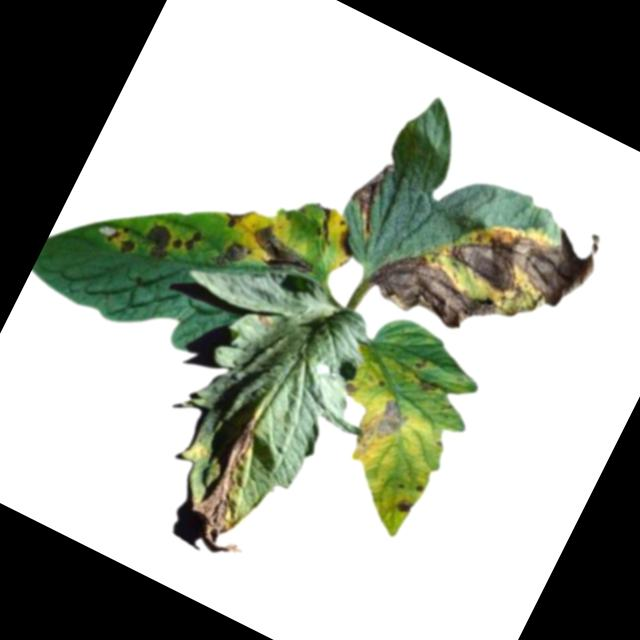Early_blight: (428, 169, 612, 325), (359, 234, 531, 362), (177, 405, 301, 564), (339, 152, 408, 238), (243, 217, 324, 288), (352, 386, 415, 461), (137, 217, 179, 262), (209, 230, 250, 274), (103, 221, 141, 256), (218, 201, 252, 237), (171, 223, 205, 258), (331, 226, 363, 258), (411, 372, 442, 399), (393, 492, 418, 517), (412, 355, 434, 376)
